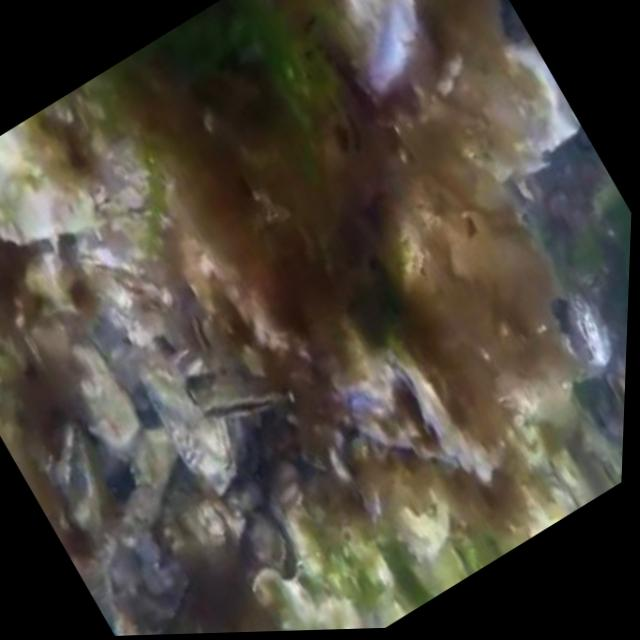Oyster-Closed: (388, 352, 473, 471), (194, 309, 218, 351), (278, 484, 306, 515)
Oyster-Indeterminate: (429, 39, 581, 181), (0, 96, 107, 247), (336, 356, 463, 470), (140, 355, 229, 492), (159, 462, 245, 569), (72, 345, 145, 445), (254, 569, 313, 631), (380, 210, 424, 293), (523, 479, 582, 539), (417, 538, 469, 596), (568, 297, 606, 364)
Oyster-Open: (337, 0, 419, 91), (55, 423, 103, 538), (185, 373, 290, 422), (247, 509, 298, 577), (608, 375, 625, 411)
